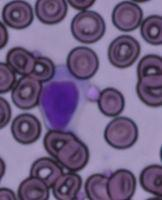L: (37, 62, 97, 132)
